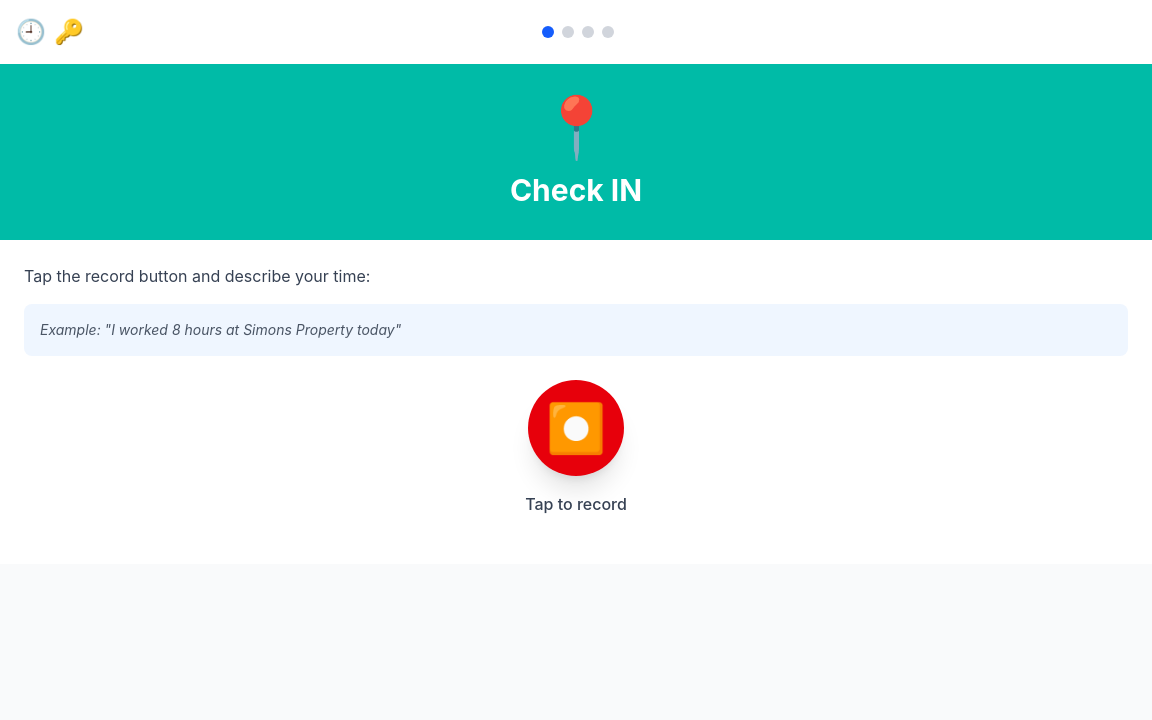
Test case: WorkerUI › opens history modal when history button clicked
Click the button named "view history" at x=31, y=32, box x1=16 y1=16 x2=46 y2=48
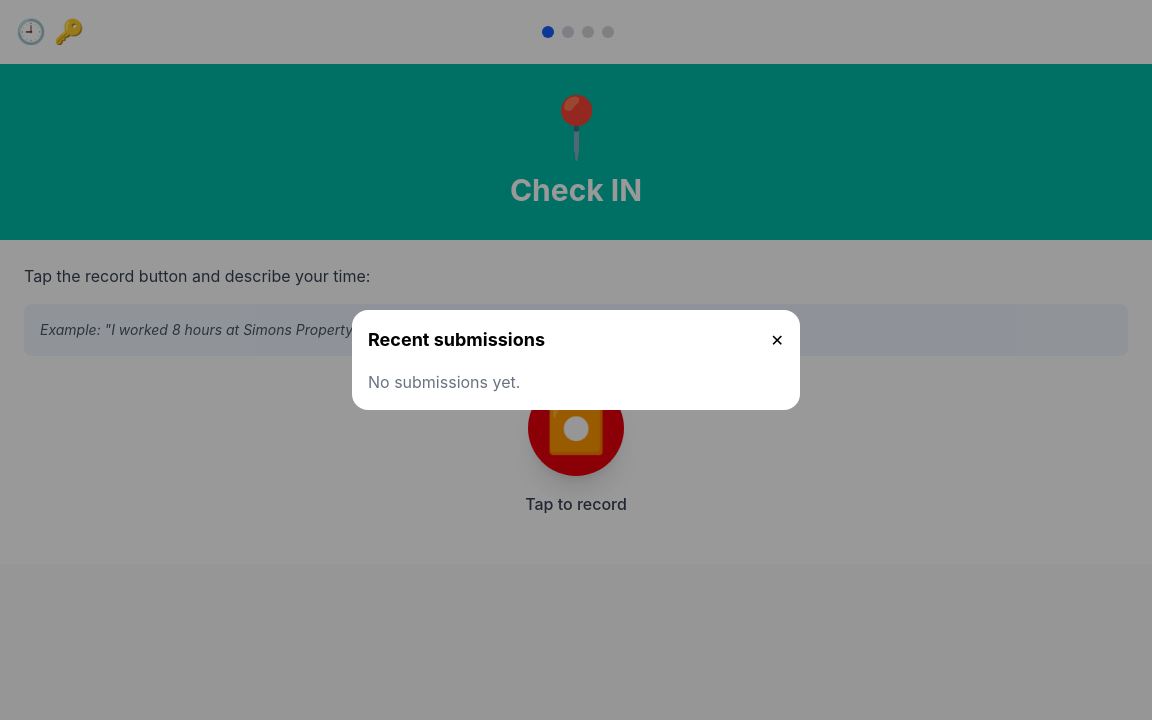
Expected: the heading "Recent submissions" is shown, x1=368 y1=326 x2=545 y2=354
